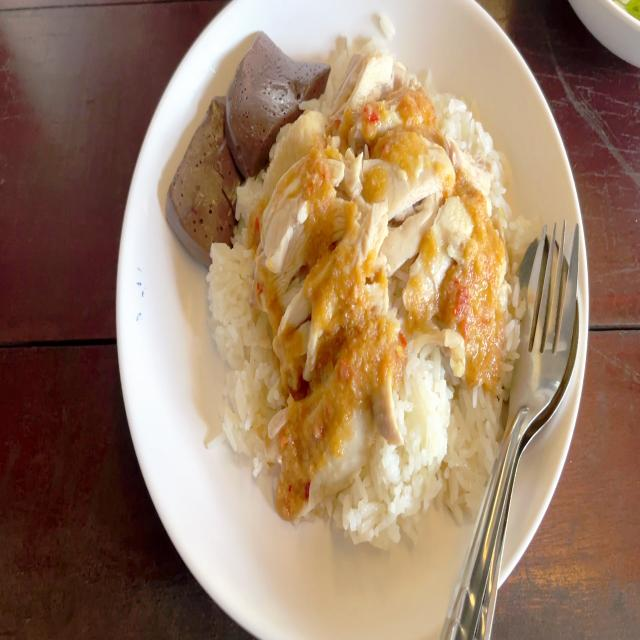boiled_chicken: (269, 108, 499, 474)
boiled_chicken_blood_jelly: (166, 90, 248, 254), (230, 30, 312, 154)
chicken_rice: (161, 8, 534, 540)
